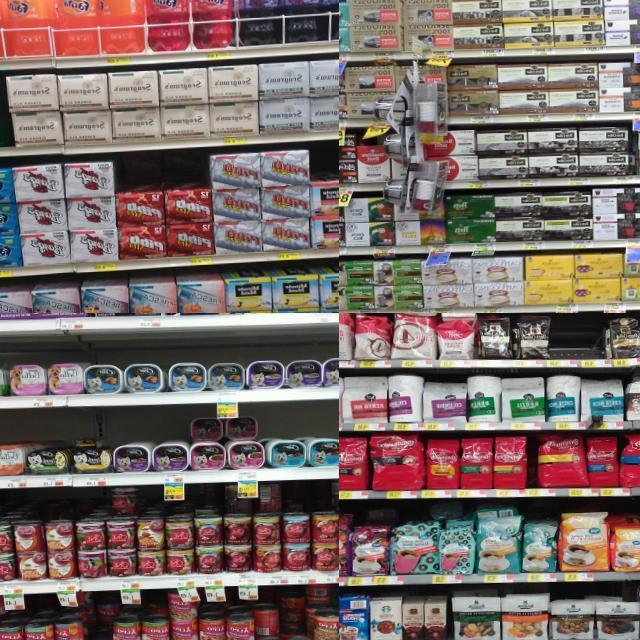Imprecise: (227, 482, 284, 574), (186, 408, 268, 471), (104, 486, 142, 568), (252, 590, 314, 640), (80, 594, 114, 638)
